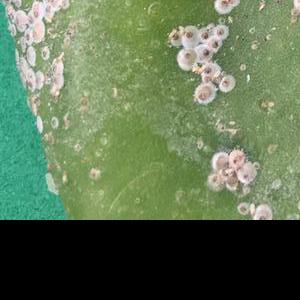Femea: (176, 52, 195, 67), (182, 31, 199, 44), (195, 45, 208, 59), (206, 40, 220, 52), (215, 24, 226, 39), (198, 26, 210, 39), (167, 31, 180, 41)
